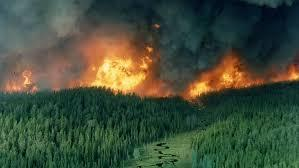fire: (187, 51, 297, 101), (74, 41, 169, 96), (6, 63, 35, 92)
yanwu: (4, 0, 299, 74)
